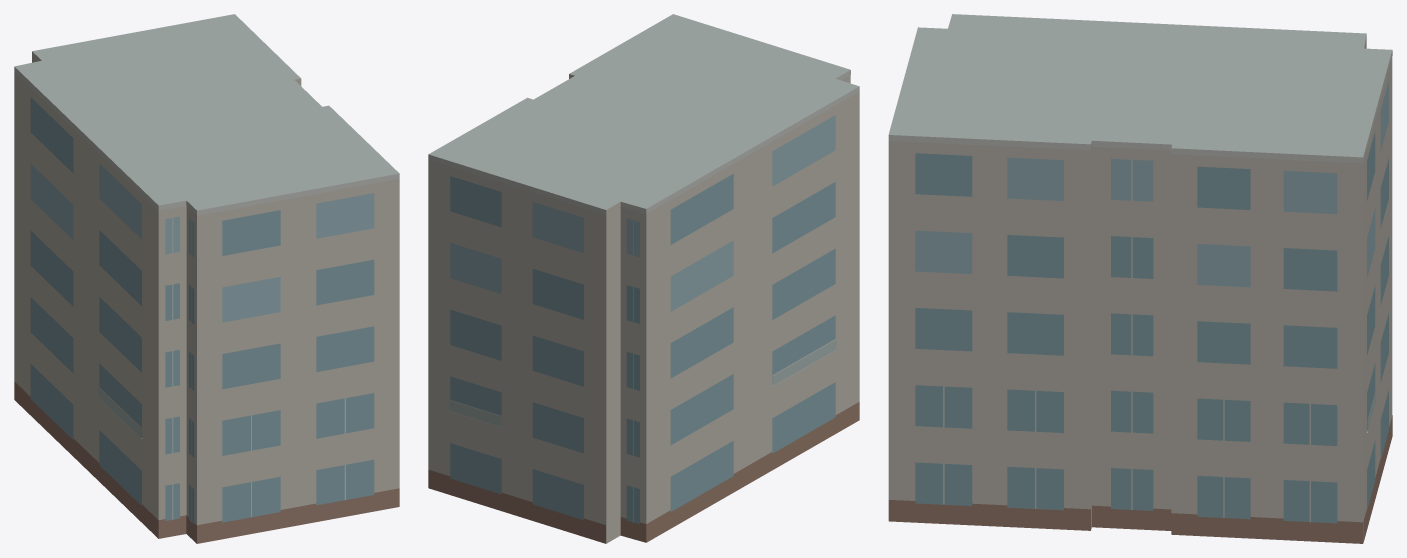
The model's file is survey-upis-32997639.glb.
3 renders of one model, left to right at view 1: azimuth 30°, elevation 25°; view 2: azimuth 150°, elevation 25°; view 3: azimuth 270°, elevation 25°, orthographic. The views are drawn at different scales.
Visible parts, largest first — view 1: survey-upis-32997639.tmp; view 2: survey-upis-32997639.tmp; view 3: survey-upis-32997639.tmp.
Part boxes in pixels (x1,y1,x2,y2): survey-upis-32997639.tmp: (14, 14, 399, 543); survey-upis-32997639.tmp: (428, 14, 859, 543); survey-upis-32997639.tmp: (888, 14, 1392, 543).
Bounding box in the file's own units: 12.53 × 15.73 × 18.6.
